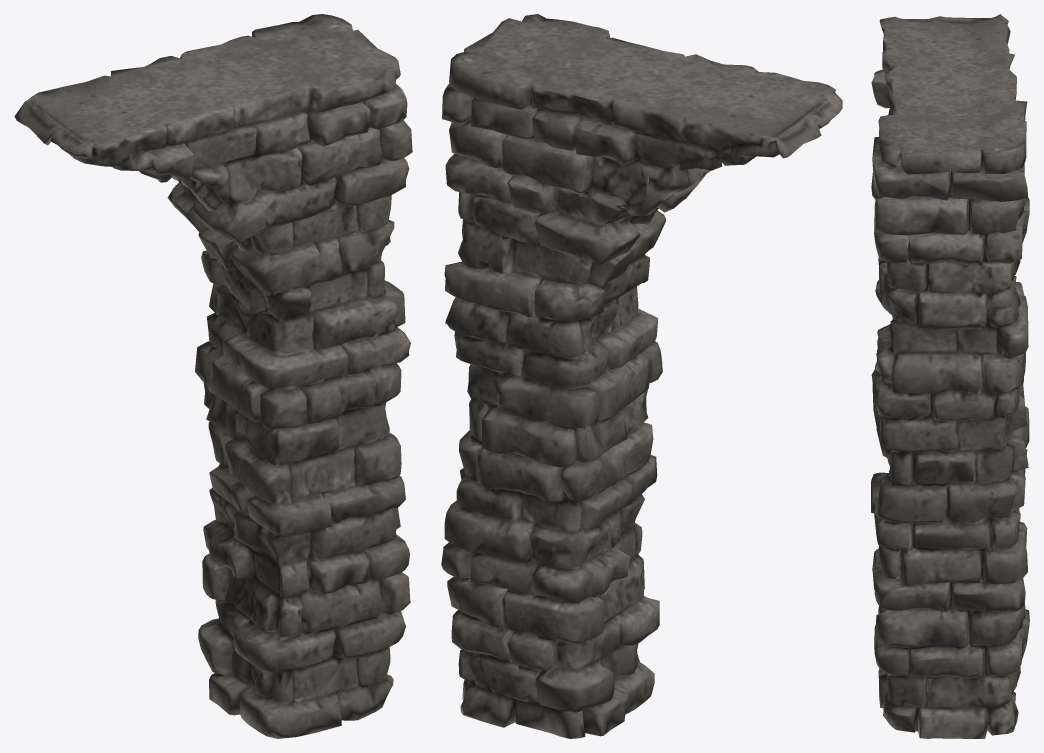
The model's file is SM_Half_Arch.glb.
3 renders of one model, left to right at view 1: azimuth 30°, elevation 25°; view 2: azimuth 150°, elevation 25°; view 3: azimuth 270°, elevation 25°, orthographic. The views are drawn at different scales.
Parts seen in each view (by area): view 1: SM_Half_Arch; view 2: SM_Half_Arch; view 3: SM_Half_Arch.
Boxes of the visible parts, x1=… form: SM_Half_Arch: x1=14, y1=14, x2=412, y2=738; SM_Half_Arch: x1=441, y1=14, x2=842, y2=738; SM_Half_Arch: x1=871, y1=14, x2=1029, y2=738.
Size of the model in its own units: 3.32 by 6.03 by 1.48.
1 material, 1 textured.
